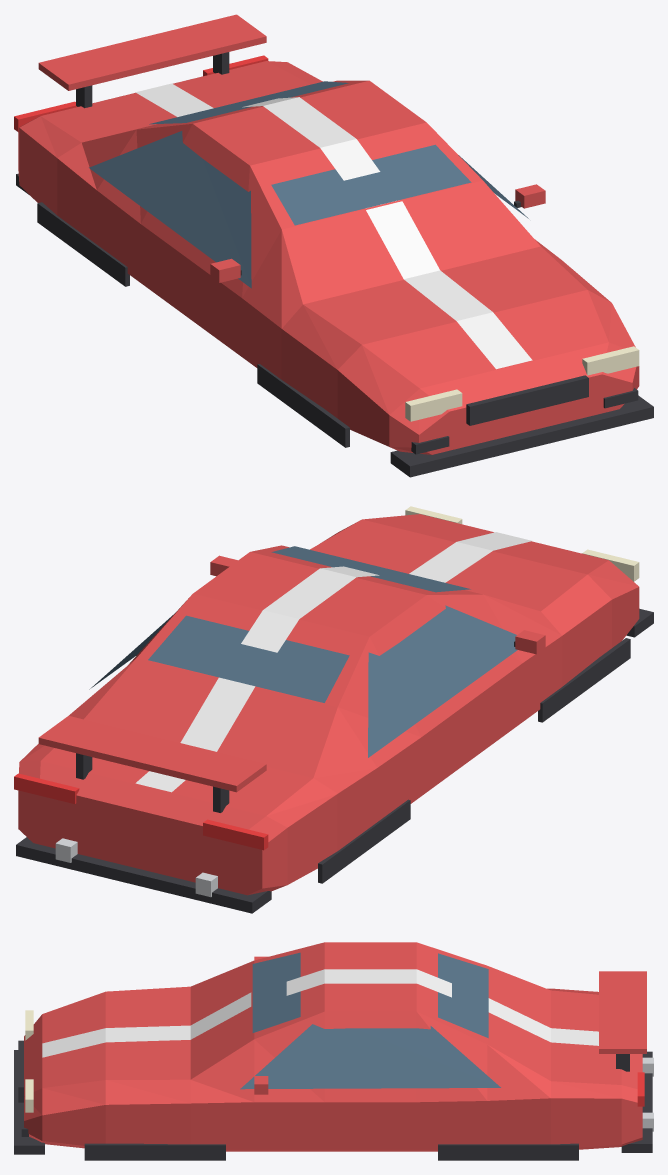
File: car_body.glb
3 views of the same model, one above another, from view 1: azimuth 30°, elevation 25°; view 2: azimuth 150°, elevation 25°; view 3: azimuth 270°, elevation 25° (orthographic). The views are drawn at different scales.
Visible parts, largest first — view 1: car_body; view 2: car_body; view 3: car_body.
Part boxes in pixels (bbox=[...]): car_body: bbox=[14, 14, 653, 477]; car_body: bbox=[14, 506, 653, 913]; car_body: bbox=[14, 942, 653, 1160].
Size of the model in its own units: 2.14 by 1.02 by 4.53.
